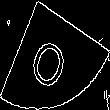O_NE: (32, 22, 78, 88)
